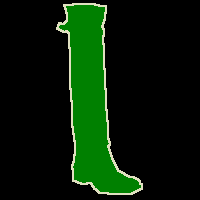shoe: (57, 4, 142, 194)
